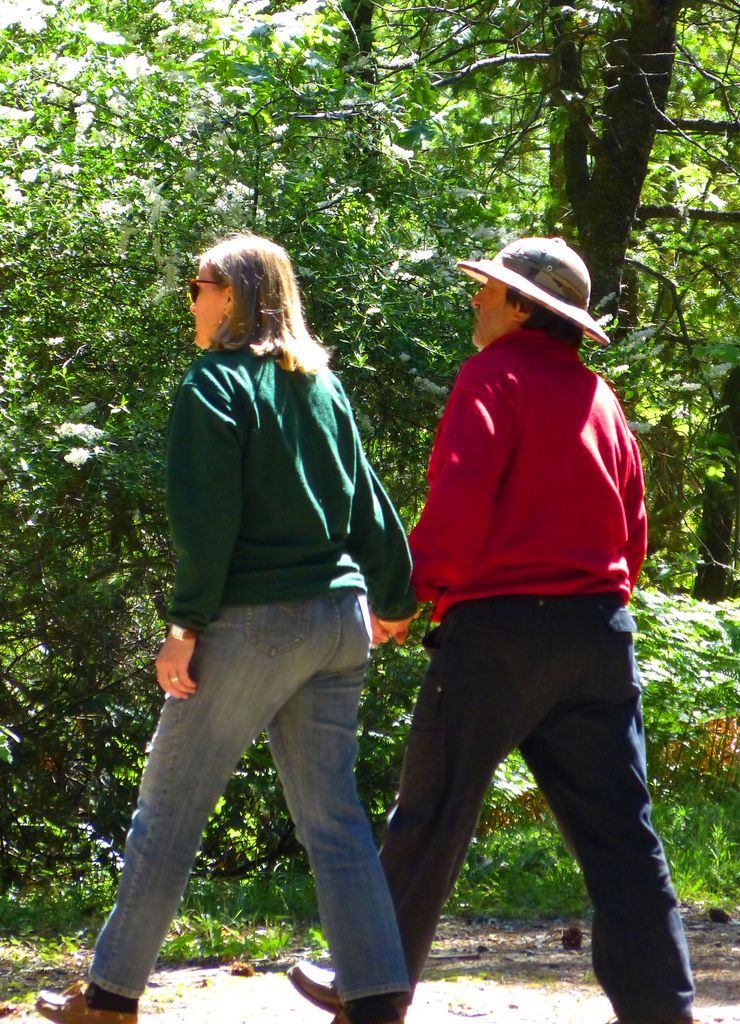Footwear: (283, 961, 351, 1023), (33, 991, 136, 1023)
